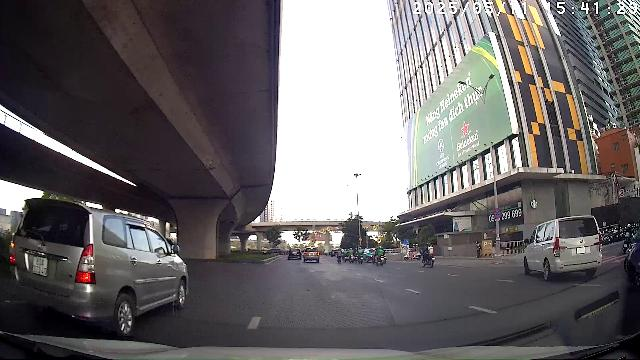130-cam-dung-va-do-xe: (493, 208, 501, 218)
